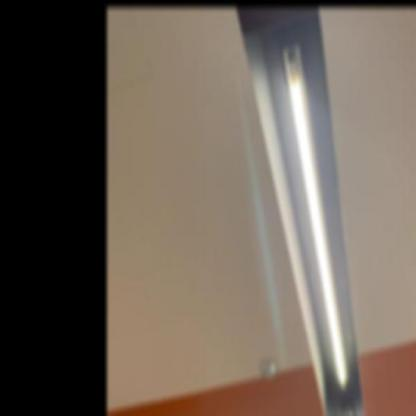light_on: (275, 32, 353, 400)
